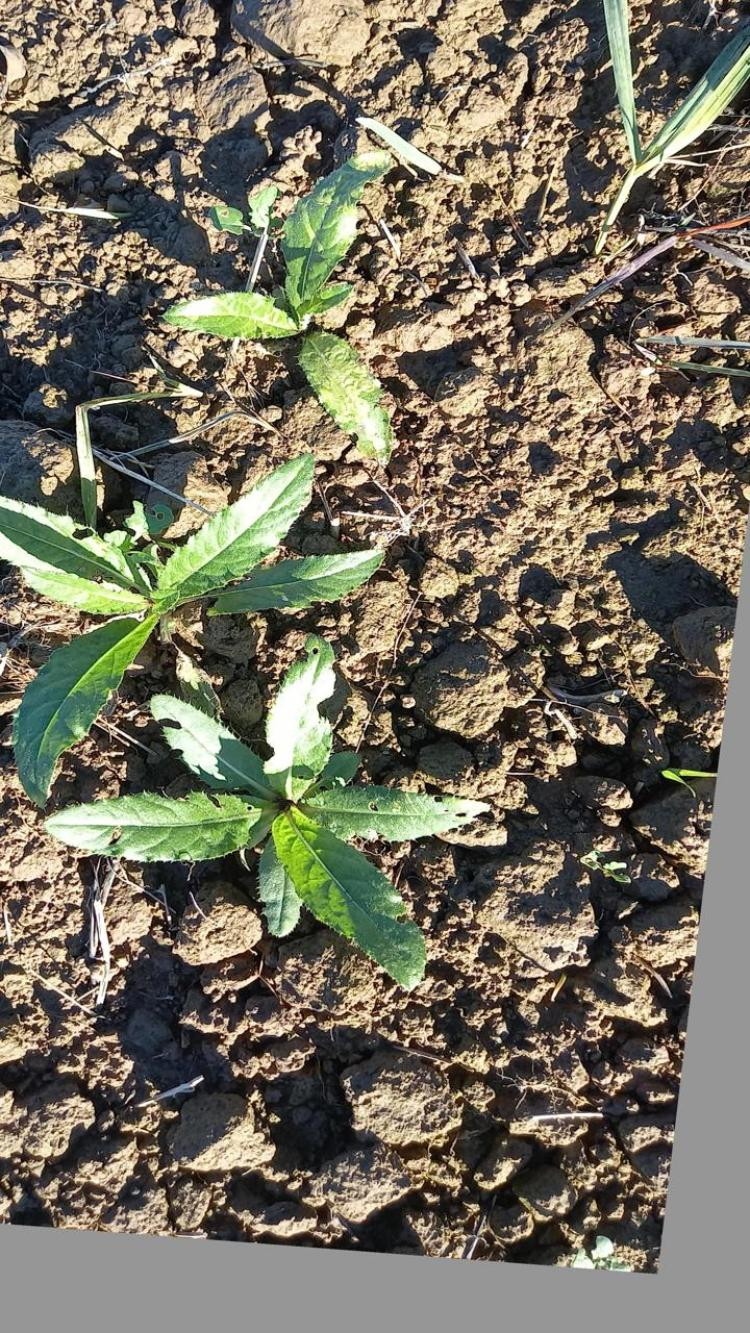osot: (27, 625, 496, 993), (0, 458, 392, 808)
